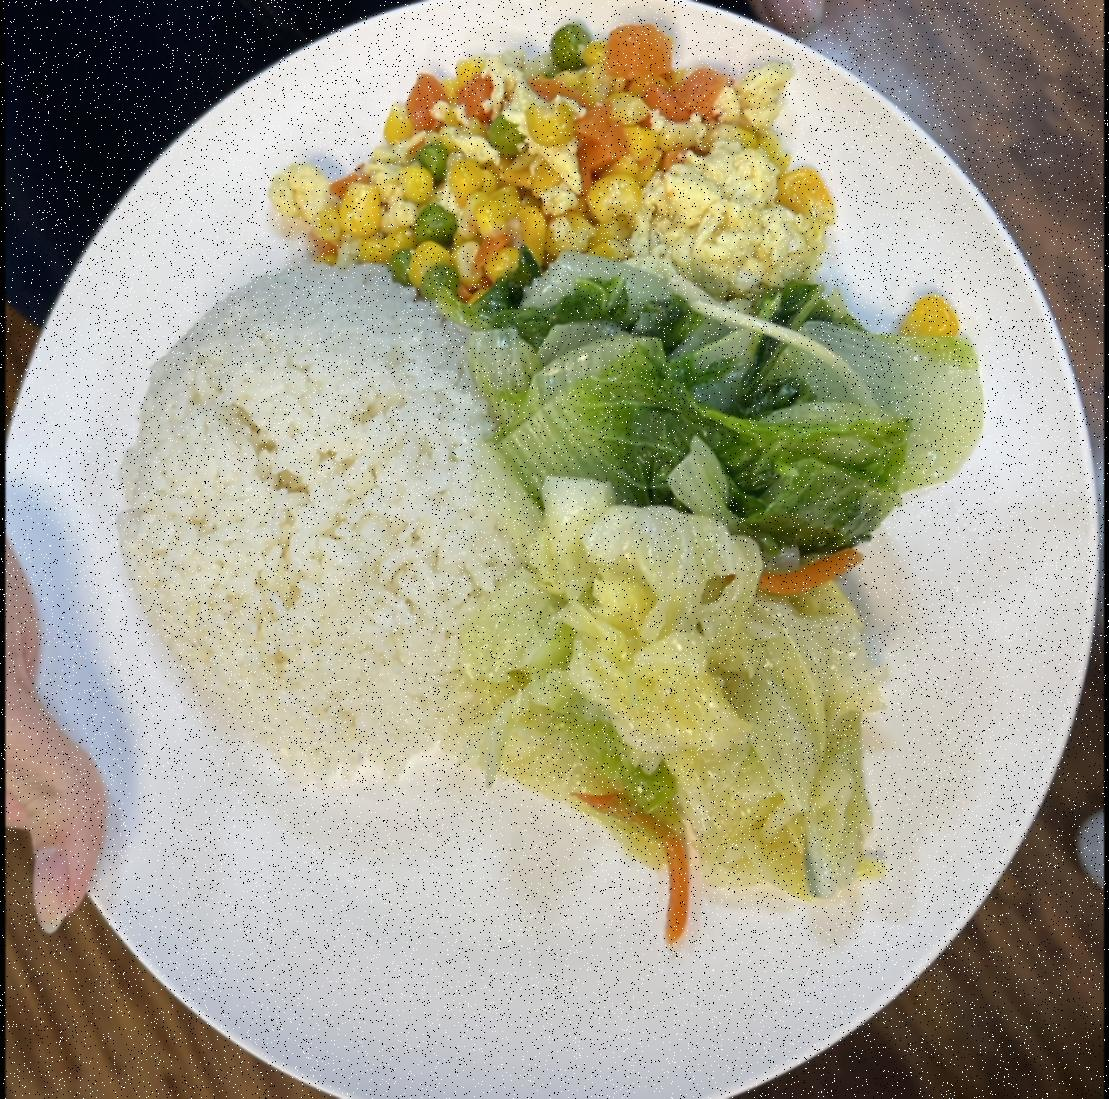big fried chicken leg: (10, 0, 1104, 1099)
big herbal chicken leg: (116, 271, 541, 774)
braised fish fillet: (457, 482, 882, 917), (256, 21, 827, 304), (461, 264, 985, 531)
